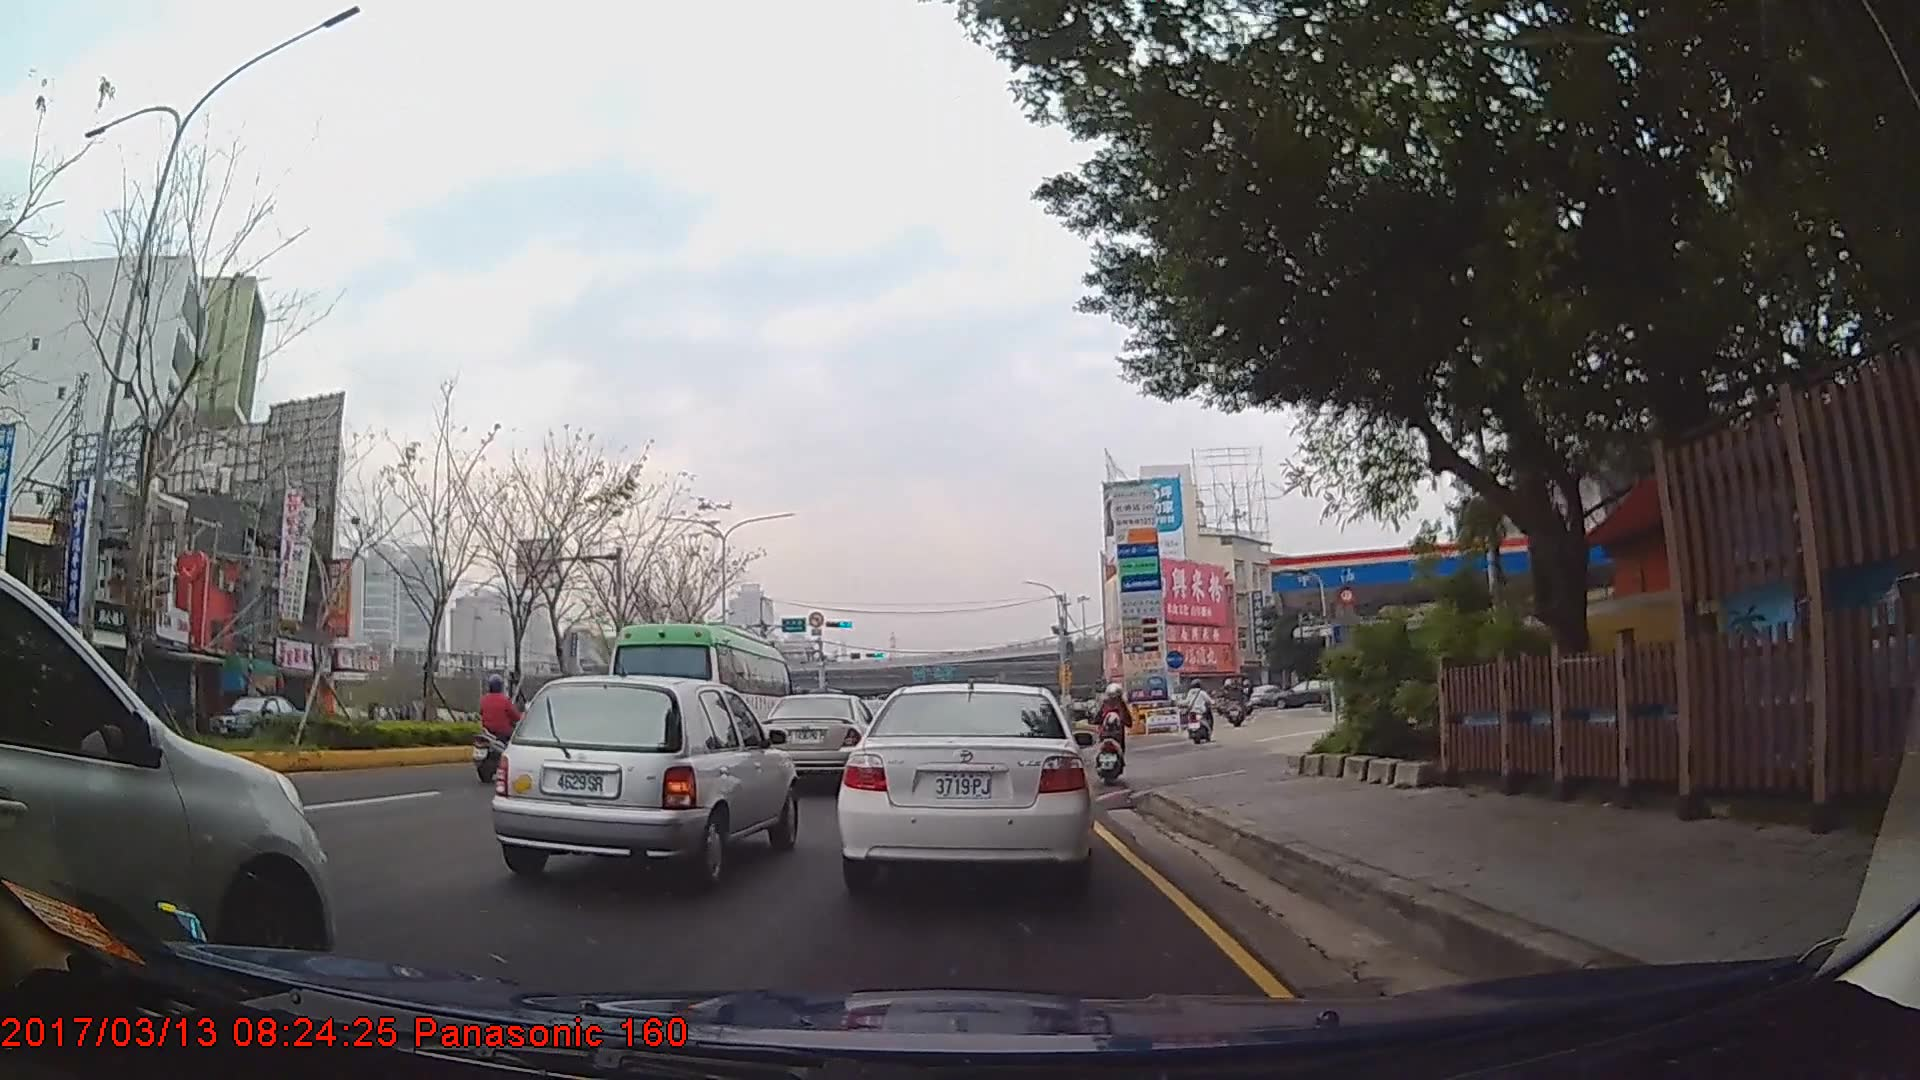rider: (473, 672, 535, 784), (1095, 682, 1133, 780), (1184, 678, 1213, 746), (1227, 676, 1247, 726)
vehicle: (0, 568, 332, 997), (492, 670, 800, 884), (840, 682, 1091, 890), (602, 618, 792, 776), (757, 692, 881, 785), (204, 688, 306, 741), (1269, 676, 1339, 706)
